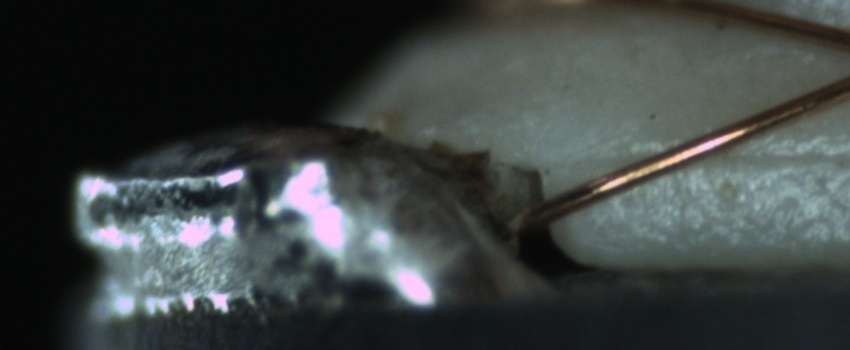DL: (619, 123, 849, 190)
